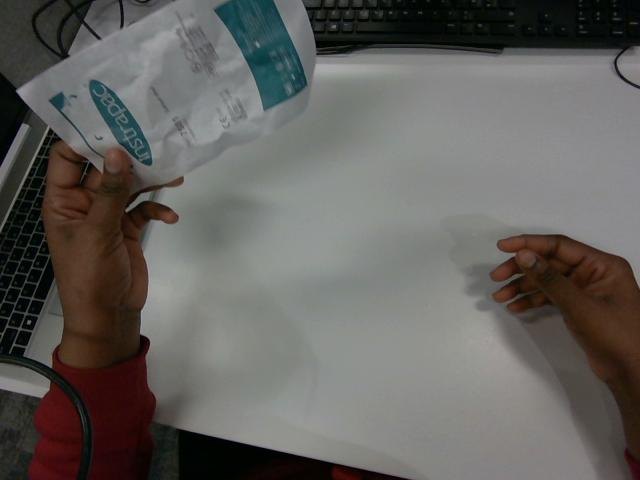gallipot: (18, 0, 315, 189)
